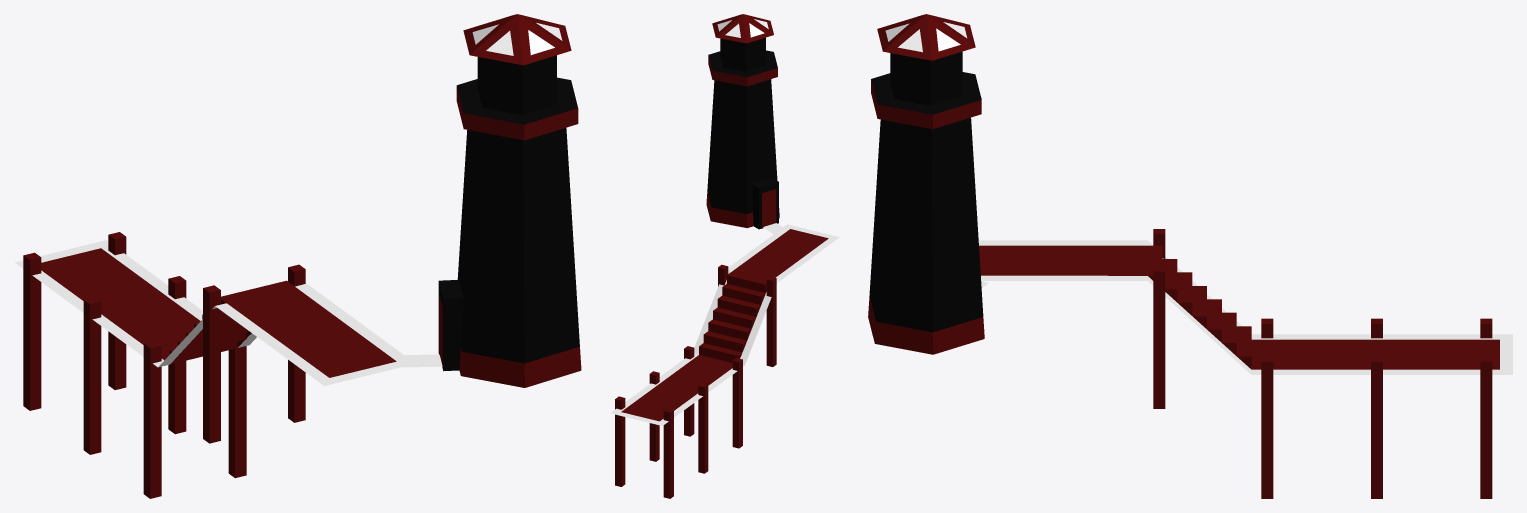
The model's file is FBX_LighthouseOne_L.fbx.
The picture shows the model from 3 angles, left to right: view 1: azimuth 30°, elevation 25°; view 2: azimuth 150°, elevation 25°; view 3: azimuth 270°, elevation 25°; orthographic projection. The views are drawn at different scales.
Visible parts, largest first — view 1: LighthouseOne_L; view 2: LighthouseOne_L; view 3: LighthouseOne_L.
Part boxes in pixels (box(x1,y1,x2,y2)): LighthouseOne_L: box(15, 14, 581, 498); LighthouseOne_L: box(610, 14, 839, 498); LighthouseOne_L: box(868, 14, 1512, 498).
Size of the model in its own units: 321 by 724 by 808.
